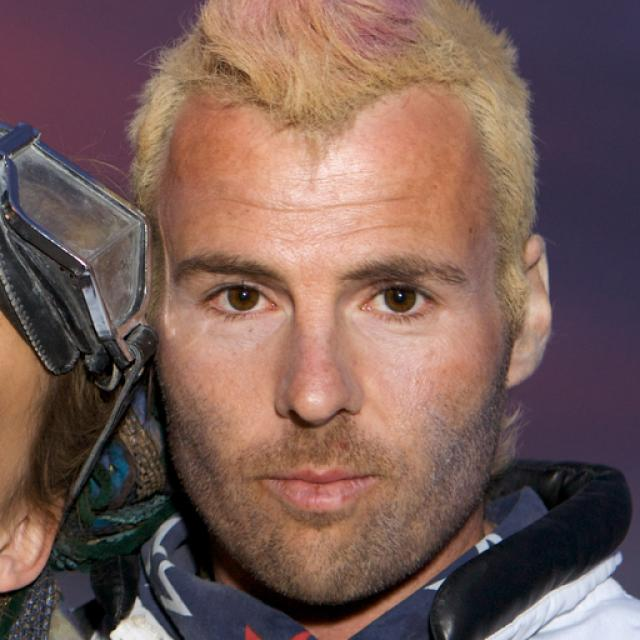Wrinkle: (222, 186, 428, 218), (313, 207, 440, 244)
